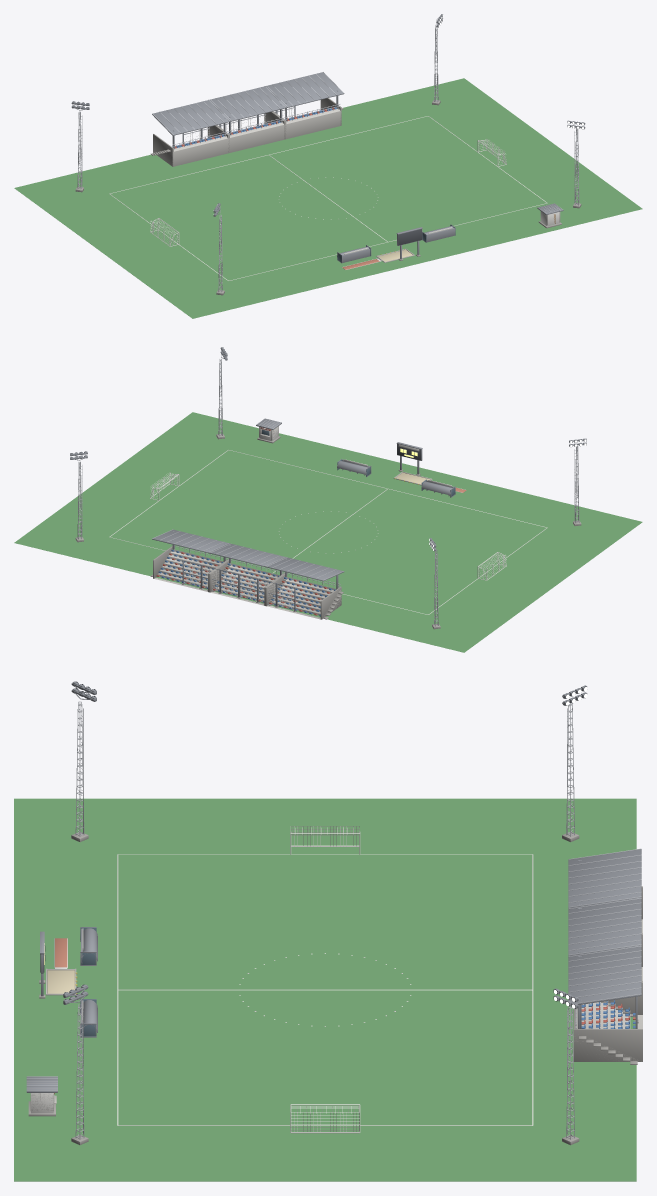
The model's file is th44_stadion.glb.
The picture shows the model from 3 angles, top to bottom: view 1: azimuth 30°, elevation 25°; view 2: azimuth 150°, elevation 25°; view 3: azimuth 270°, elevation 25°; orthographic projection. The views are drawn at different scales.
Parts seen in each view (by area): view 1: Cube, Cube.228, Cube.436, Cube.644, Stufenkoerper, Stufenkoerper.002, Stufenkoerper.001; view 2: Cube, Stufenkoerper, Stufenkoerper.002, Stufenkoerper.001, Cube.228, Cube.436, Cube.644; view 3: Cube, Cube.644, Cube.228, Cube.436, Cube.638, Stufenkoerper.002, Cube.005.
Part boxes in pixels (x1=…): Cube: x1=14, y1=78, x2=642, y2=318; Cube.228: x1=152, y1=99, x2=230, y2=135; Cube.436: x1=210, y1=86, x2=287, y2=121; Cube.644: x1=267, y1=72, x2=344, y2=108; Stufenkoerper: x1=164, y1=136, x2=228, y2=166; Stufenkoerper.002: x1=285, y1=109, x2=341, y2=139; Stufenkoerper.001: x1=229, y1=122, x2=284, y2=152; Cube: x1=14, y1=412, x2=642, y2=652; Stufenkoerper: x1=267, y1=576, x2=341, y2=619; Stufenkoerper.002: x1=154, y1=549, x2=223, y2=591; Stufenkoerper.001: x1=210, y1=563, x2=279, y2=605; Cube.228: x1=264, y1=557, x2=344, y2=581; Cube.436: x1=208, y1=543, x2=286, y2=566; Cube.644: x1=152, y1=529, x2=228, y2=552; Cube: x1=14, y1=798, x2=636, y2=1181; Cube.644: x1=568, y1=945, x2=641, y2=1006; Cube.228: x1=568, y1=849, x2=641, y2=906; Cube.436: x1=568, y1=897, x2=641, y2=954; Cube.638: x1=573, y1=1029, x2=642, y2=1061; Stufenkoerper.002: x1=573, y1=1002, x2=642, y2=1061; Cube.005: x1=118, y1=989, x2=532, y2=990.
Size of the model in its own units: 96 by 17.63 by 66.67.
